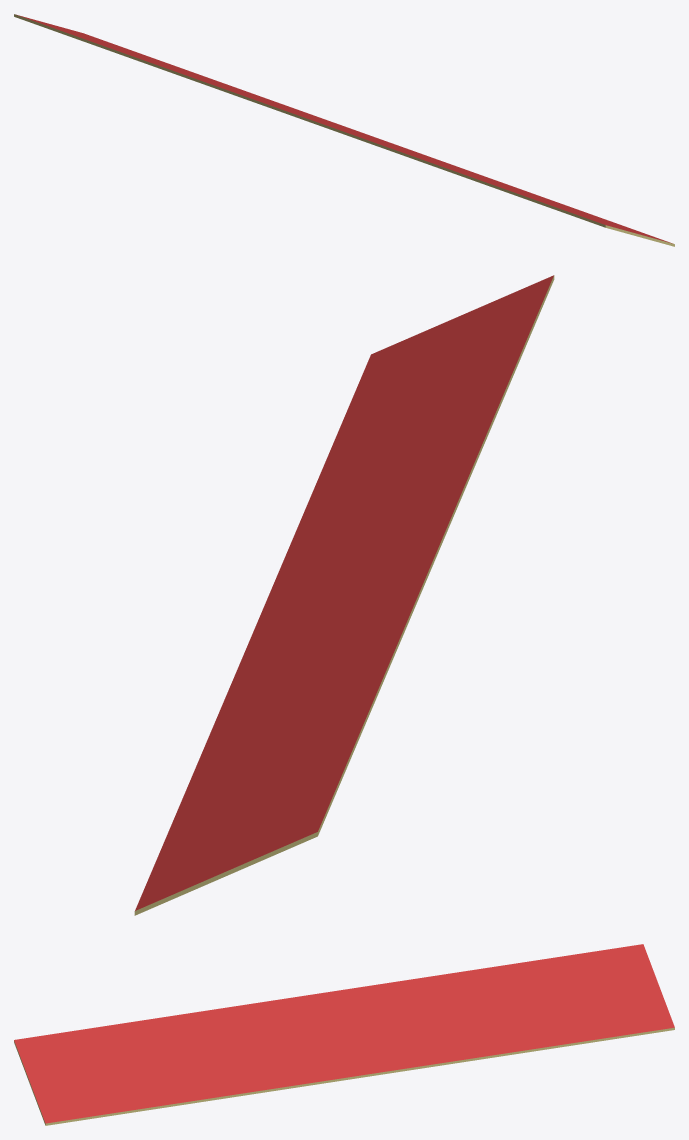
The picture shows the model from 3 angles, top to bottom: view 1: azimuth 30°, elevation 25°; view 2: azimuth 150°, elevation 25°; view 3: azimuth 270°, elevation 25°; orthographic projection. The views are drawn at different scales.
Bounding box in the file's own units: 12.18 × 25.59 × 2.09.
